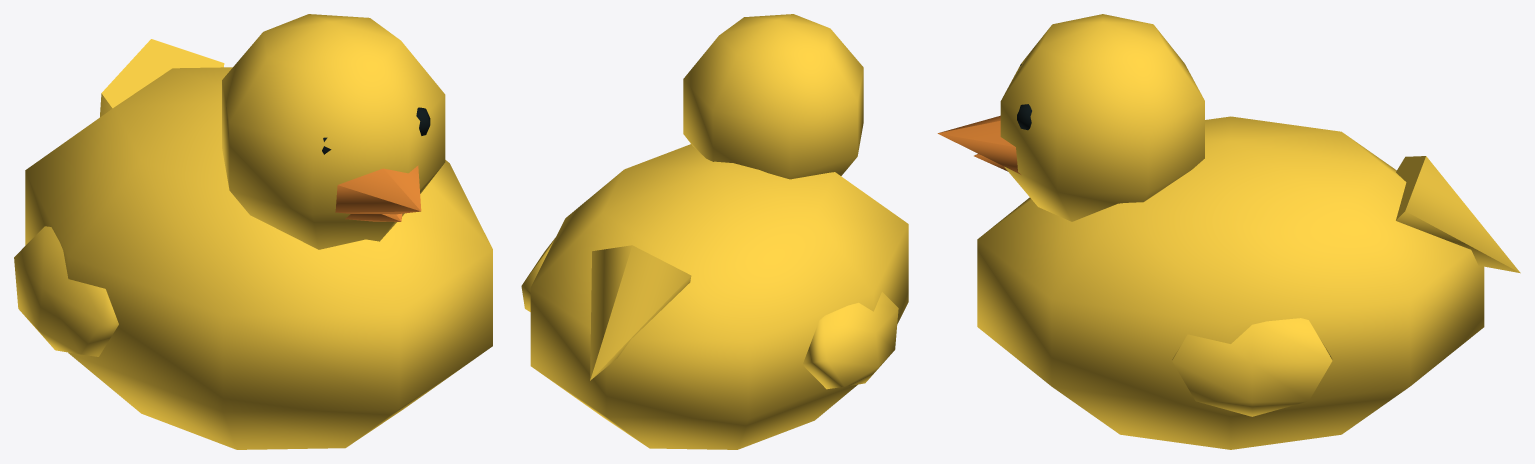
Rendered from harold.glb.
3 renders of one model, left to right at view 1: azimuth 30°, elevation 25°; view 2: azimuth 150°, elevation 25°; view 3: azimuth 270°, elevation 25°, orthographic. The views are drawn at different scales.
Visible parts, largest first — view 1: Duck; view 2: Duck; view 3: Duck.
Boxes of the visible parts, bbox=[...] form: Duck: bbox=[14, 14, 492, 449]; Duck: bbox=[521, 14, 908, 449]; Duck: bbox=[937, 14, 1520, 449].
Size of the model in its own units: 2.46 by 2.5 by 3.29.
